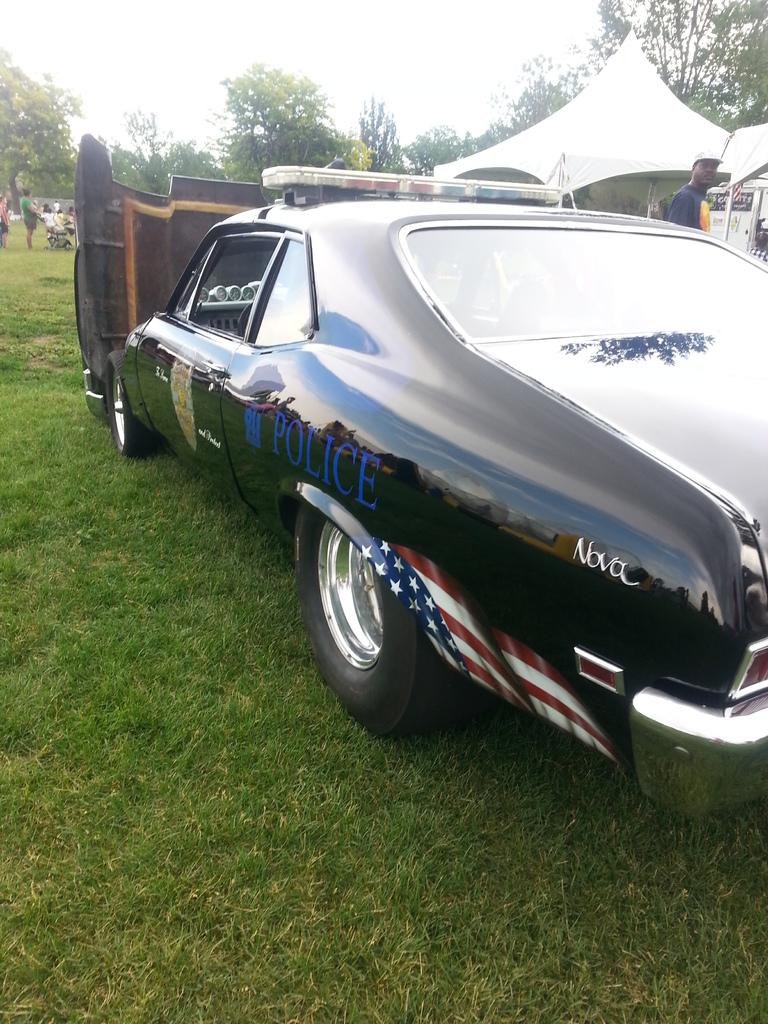mobil: (144, 193, 768, 777)
